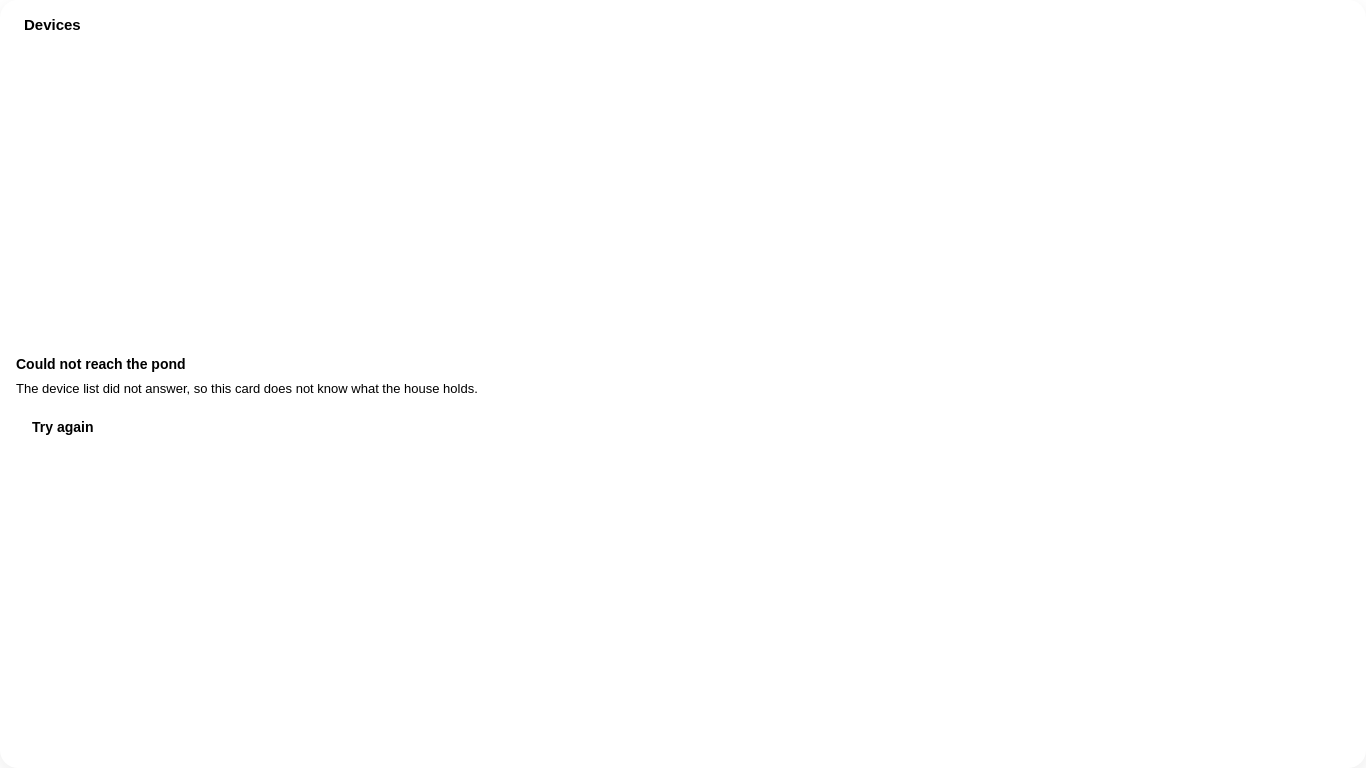
Test: when the device list cannot be read › offers the read again, and takes it
This screenshot has width=1366, height=768.
Later steps or results of the test are not shown.
Step 1. Click the button "Try again" → (63, 427), box left=16, top=405, right=110, bottom=449
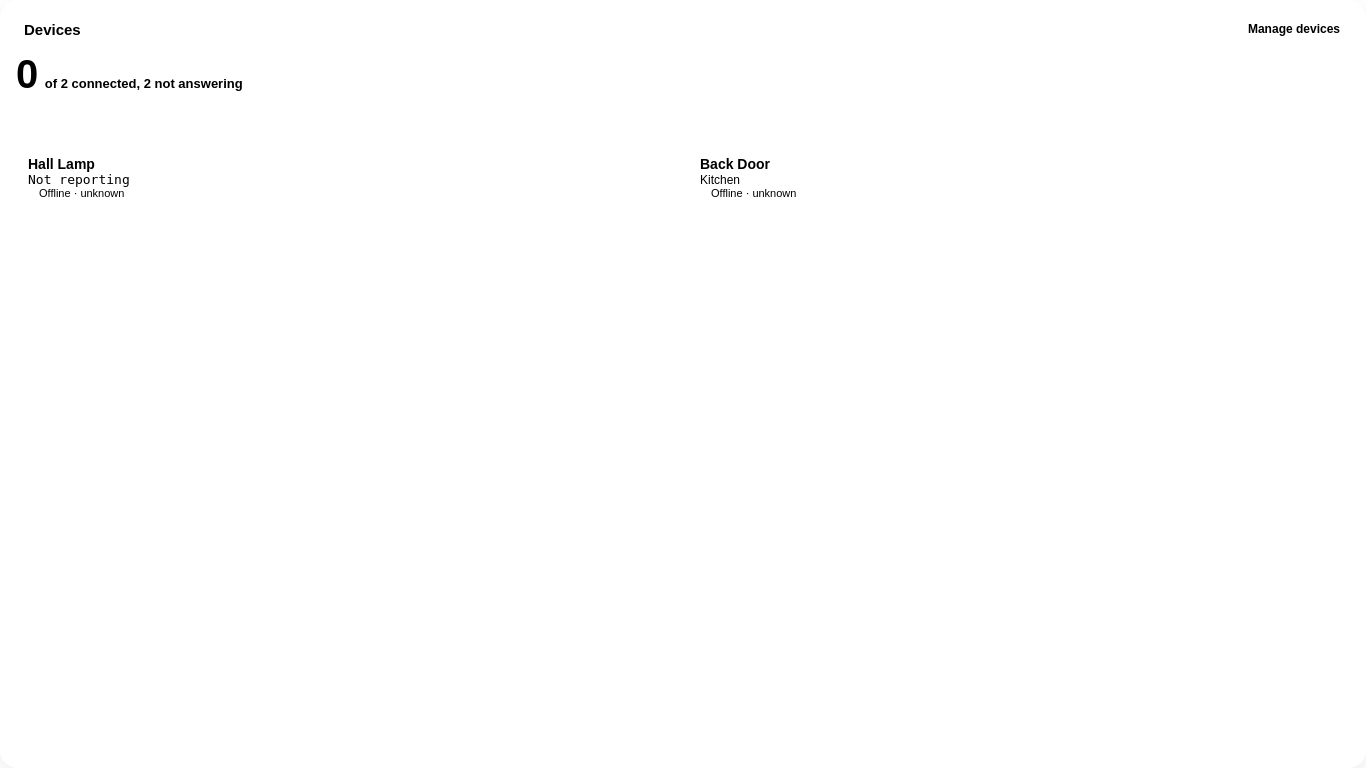
expect the text "Hall Lamp" is shown: met, box left=28, top=156, right=95, bottom=172
expect the text "Could not reach the pond" is gone: met
